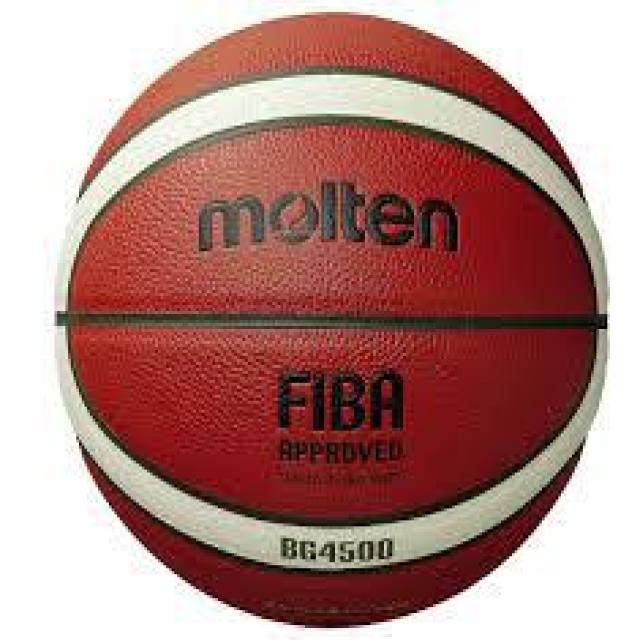ball: (45, 3, 613, 634)
